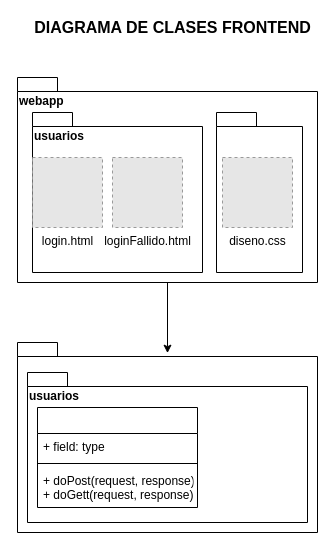
This 335x550 diagram has some shape labels left out. Grey dashed boxes stand in for pictures. The box of each missing label's shape, as (x1, y1, x2, y2) in pixels:
com.ubosque.mintic: (16, 342, 318, 532)
estilos: (216, 112, 302, 272)
LoginServlet: (36, 406, 198, 508)
